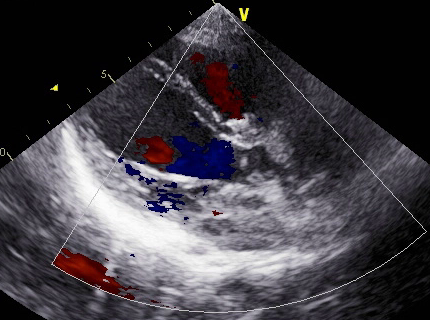AR: (137, 132, 186, 172)
